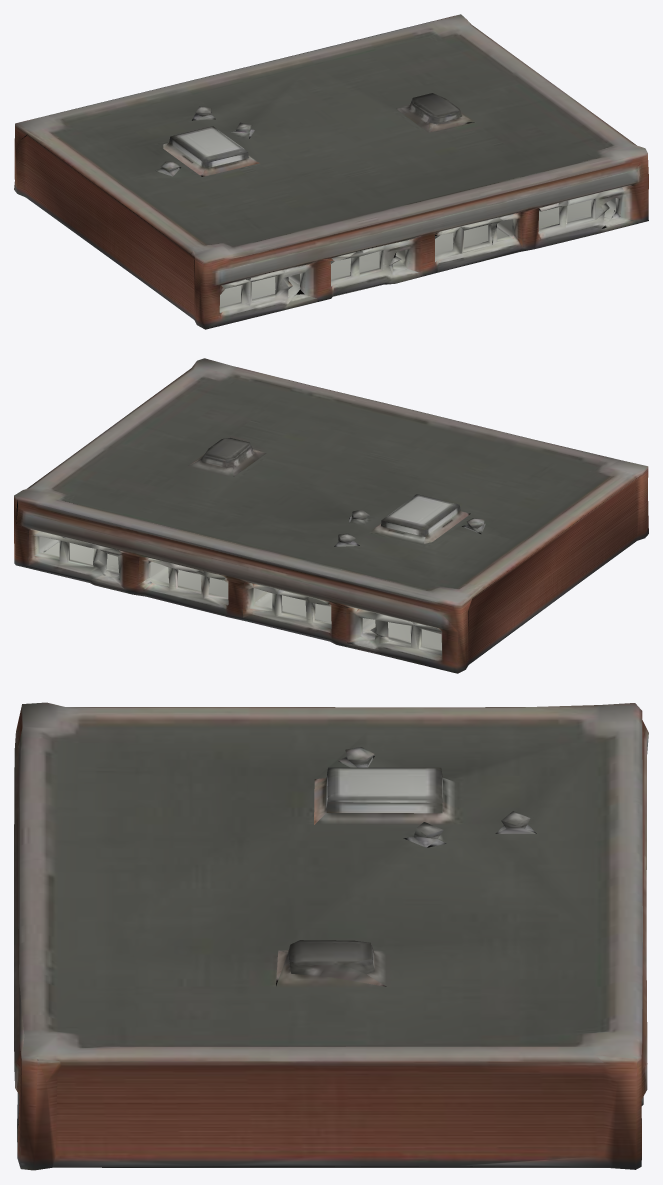
The model's file is gen_low2_retail_strip.glb.
3 renders of one model, top to bottom at view 1: azimuth 30°, elevation 25°; view 2: azimuth 150°, elevation 25°; view 3: azimuth 270°, elevation 25°, orthographic. The views are drawn at different scales.
Parts seen in each view (by area): view 1: gen_low2_retail_strip; view 2: gen_low2_retail_strip; view 3: gen_low2_retail_strip.
Part boxes in pixels (box(x1,y1,x2,y2)): gen_low2_retail_strip: box(14, 14, 648, 329); gen_low2_retail_strip: box(14, 358, 648, 673); gen_low2_retail_strip: box(14, 702, 648, 1170).
Bounding box in the file's own units: 30 × 5 × 22.56.
Materials: 1 (1 with a texture image).
